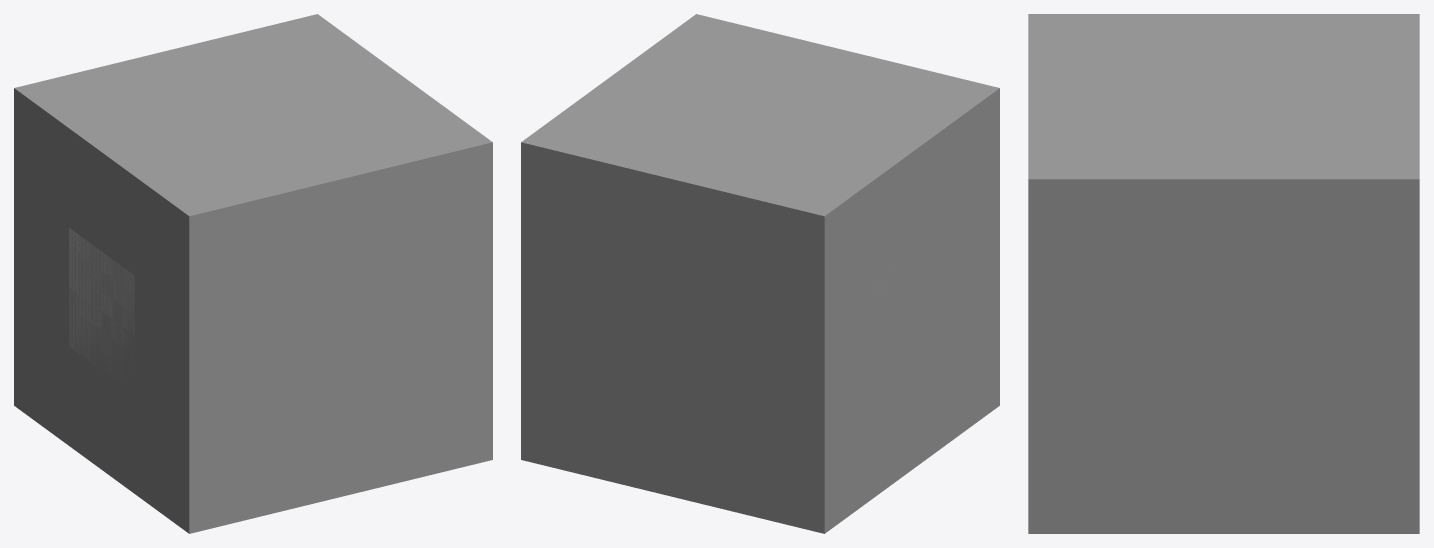
File: lightsensor.obj
3 views of the same model, side by side, from view 1: azimuth 30°, elevation 25°; view 2: azimuth 150°, elevation 25°; view 3: azimuth 270°, elevation 25° (orthographic). The views are drawn at different scales.
Parts seen in each view (by area): view 1: Minecraft_Block_Cube, Minecraft_2_Edge_Connectivity_Cube.002, main; view 2: Minecraft_Block_Cube, Minecraft_2_Edge_Connectivity_Cube.002; view 3: Minecraft_Block_Cube, Minecraft_2_Edge_Connectivity_Cube.002.
Part boxes in pixels (<box>): Minecraft_Block_Cube: <box>15,14,492,533</box>; Minecraft_2_Edge_Connectivity_Cube.002: <box>14,88,252,533</box>; main: <box>69,228,134,393</box>; Minecraft_Block_Cube: <box>521,14,998,533</box>; Minecraft_2_Edge_Connectivity_Cube.002: <box>760,88,999,533</box>; Minecraft_Block_Cube: <box>1028,14,1419,533</box>; Minecraft_2_Edge_Connectivity_Cube.002: <box>1029,14,1418,96</box>.
Size of the model in its own units: 1 by 1 by 1.
2 materials, 1 textured.
